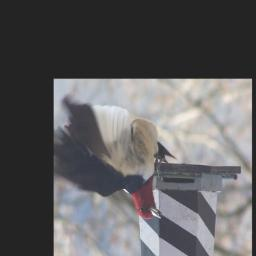Woodpecker: (54, 100, 173, 226)
